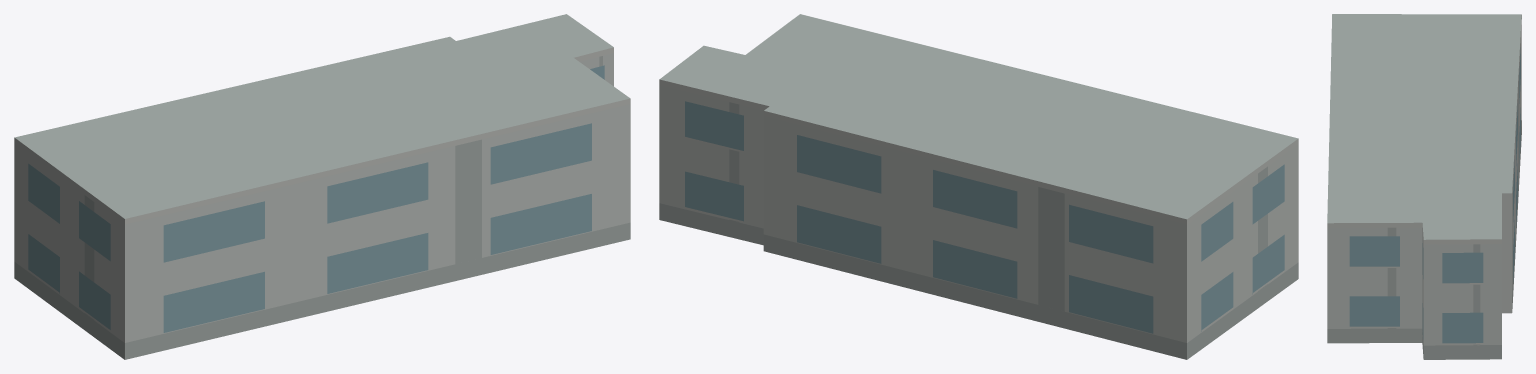
File: survey-upis-32878269.glb
3 views of the same model, side by side, from view 1: azimuth 30°, elevation 25°; view 2: azimuth 150°, elevation 25°; view 3: azimuth 270°, elevation 25° (orthographic). The views are drawn at different scales.
Visible parts, largest first — view 1: survey-upis-32878269.tmp; view 2: survey-upis-32878269.tmp; view 3: survey-upis-32878269.tmp.
Part boxes in pixels (x1,y1,x2,y2): survey-upis-32878269.tmp: (14,14,630,359); survey-upis-32878269.tmp: (659,14,1298,359); survey-upis-32878269.tmp: (1327,14,1521,359).
Size of the model in its own units: 24.61 by 6.1 by 8.96.
